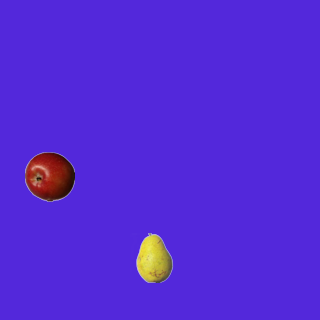Apple Braeburn: (24, 151, 74, 201)
Pear Monster: (129, 232, 179, 282)
